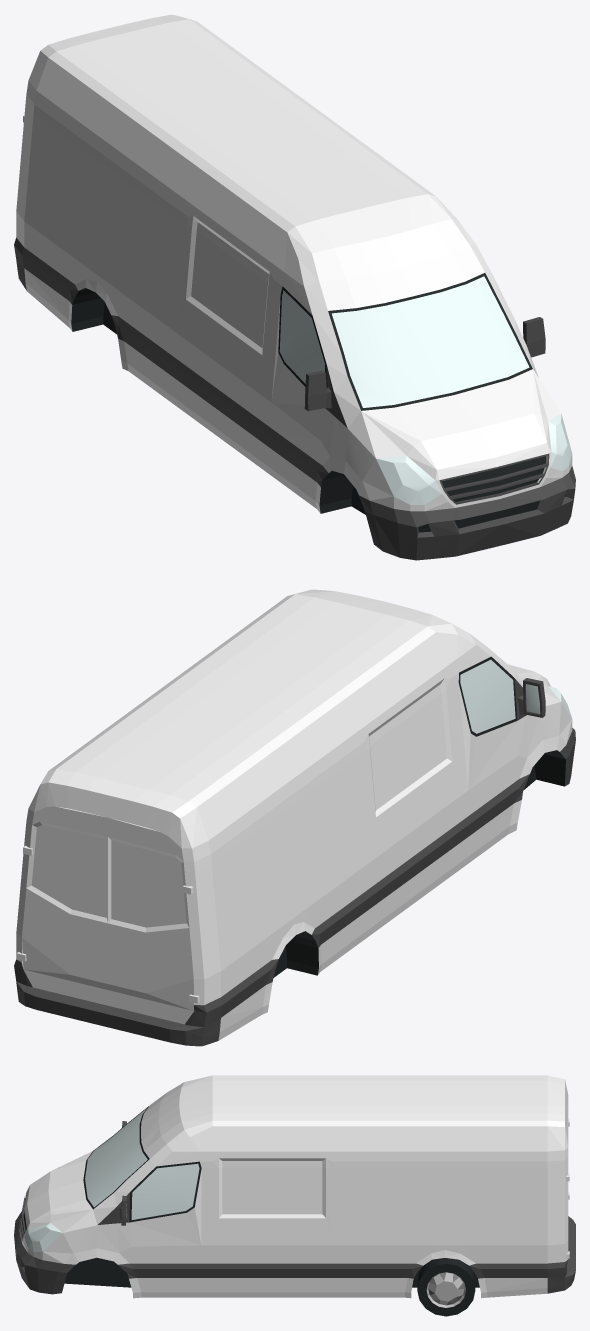
Rendered from CarVan.FBX.
The picture shows the model from 3 angles, top to bottom: view 1: azimuth 30°, elevation 25°; view 2: azimuth 150°, elevation 25°; view 3: azimuth 270°, elevation 25°; orthographic projection. The views are drawn at different scales.
Visible parts, largest first — view 1: Van; view 2: Van, VanDoorBackLeft, VanDoorBackRight; view 3: Van, VanWheel.
Part boxes in pixels (x1,y1,x2,y2): Van: [14, 14, 575, 560]; Van: [14, 589, 575, 1046]; VanDoorBackLeft: [16, 806, 108, 1005]; VanDoorBackRight: [108, 818, 199, 1024]; Van: [14, 1075, 575, 1298]; VanWheel: [417, 1258, 475, 1316].
Bounding box in the file's own units: 0.0606 × 0.1769 × 0.0648.
1 material, 1 textured.
